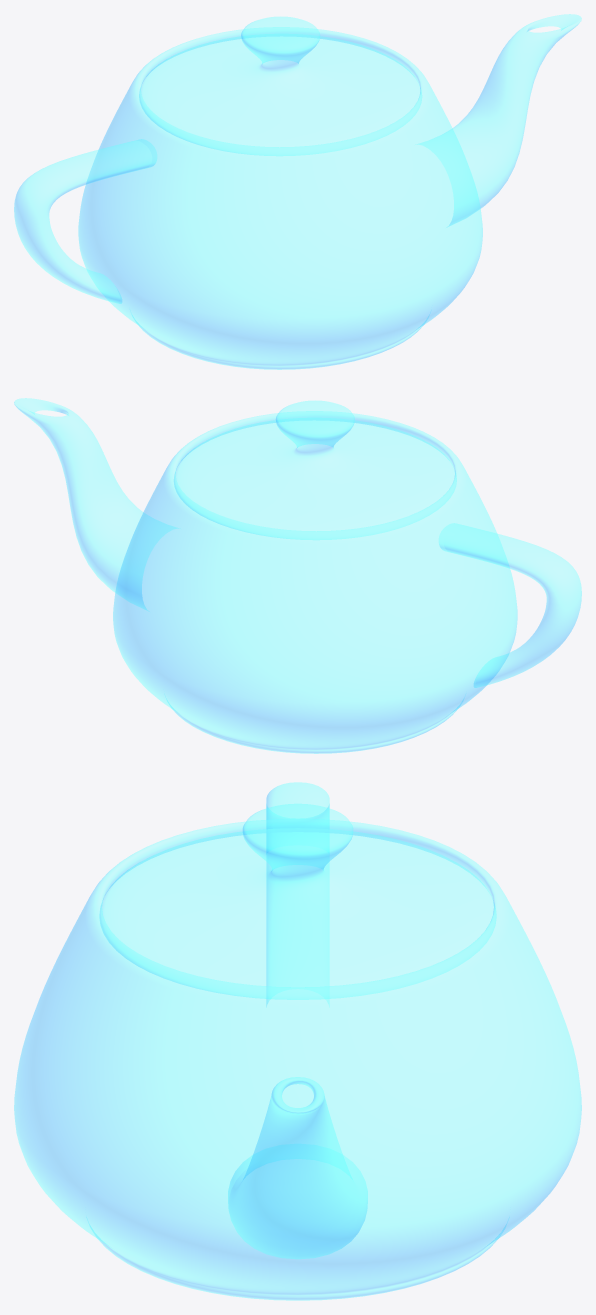
File: teapot.glb
3 renders of one model, top to bottom at view 1: azimuth 30°, elevation 25°; view 2: azimuth 150°, elevation 25°; view 3: azimuth 270°, elevation 25°, orthographic. The views are drawn at different scales.
Bounding box in the file's own units: 4.09 × 2 × 2.54.
